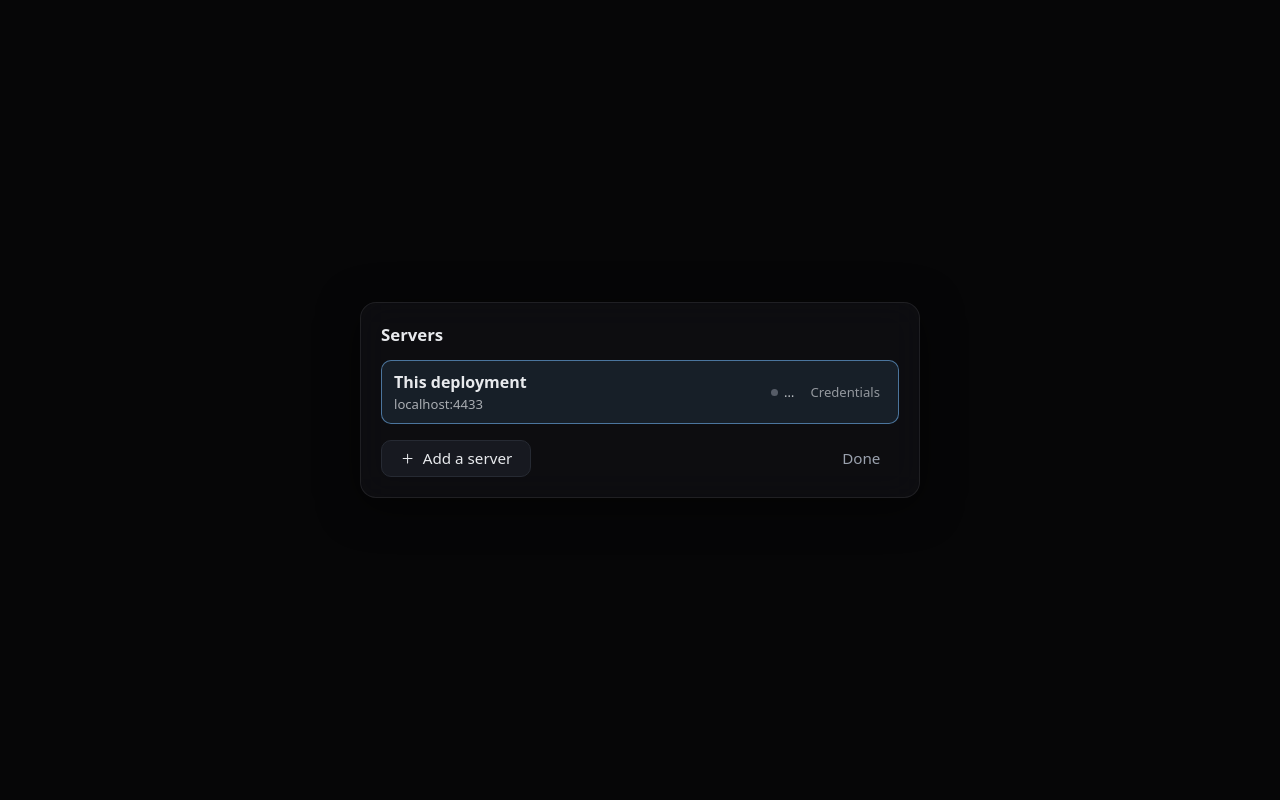
it: ServerPickerPanel add/edit form › shows the default server credential form without an Advanced gate
This screenshot has width=1280, height=800.
Click the button with aria-label "Edit default server credentials" at [845, 392], box [804,379,886,405]
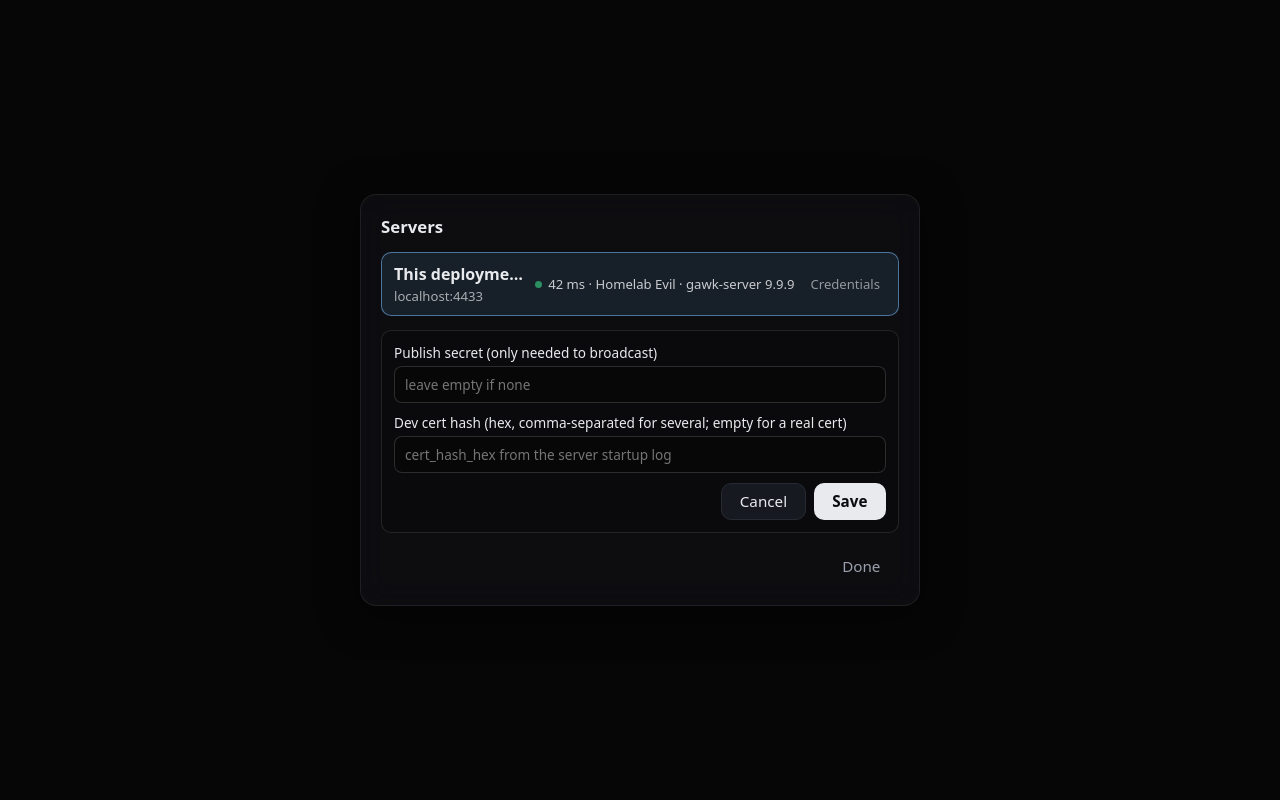
Check: the password field labelled "Publish secret (only needed to broadcast)" is shown, box [394,366,886,403]
